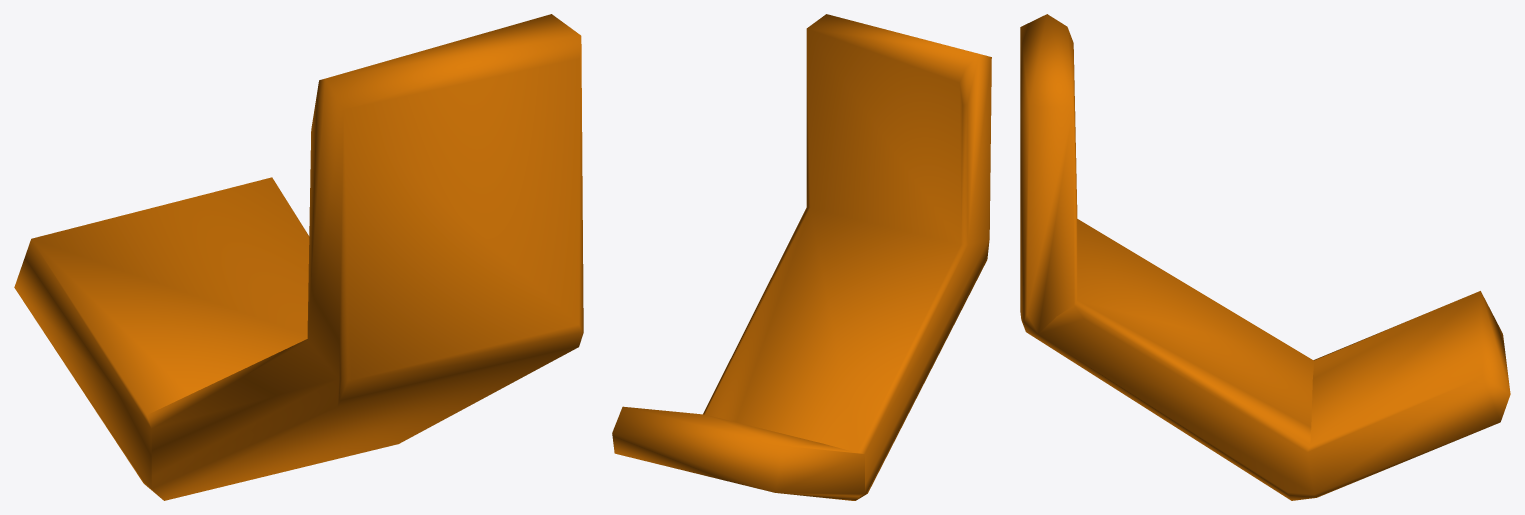
The model's file is inner_single_collision.glb.
3 renders of one model, left to right at view 1: azimuth 30°, elevation 25°; view 2: azimuth 150°, elevation 25°; view 3: azimuth 270°, elevation 25°, orthographic. The views are drawn at different scales.
Parts seen in each view (by area): view 1: node; view 2: node; view 3: node.
Boxes of the visible parts, <box> form: node: <box>14,14,583,500</box>; node: <box>612,14,991,500</box>; node: <box>1020,14,1510,500</box>.
Size of the model in its own units: 0.0312 by 0.0665 by 0.0736.
